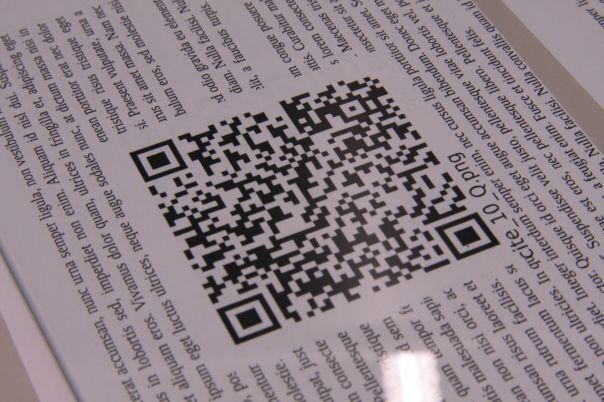Finder pattern: (216, 288, 280, 345), (130, 137, 190, 183)
